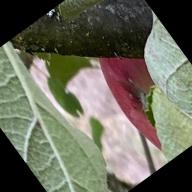Apples: (65, 0, 192, 156)
